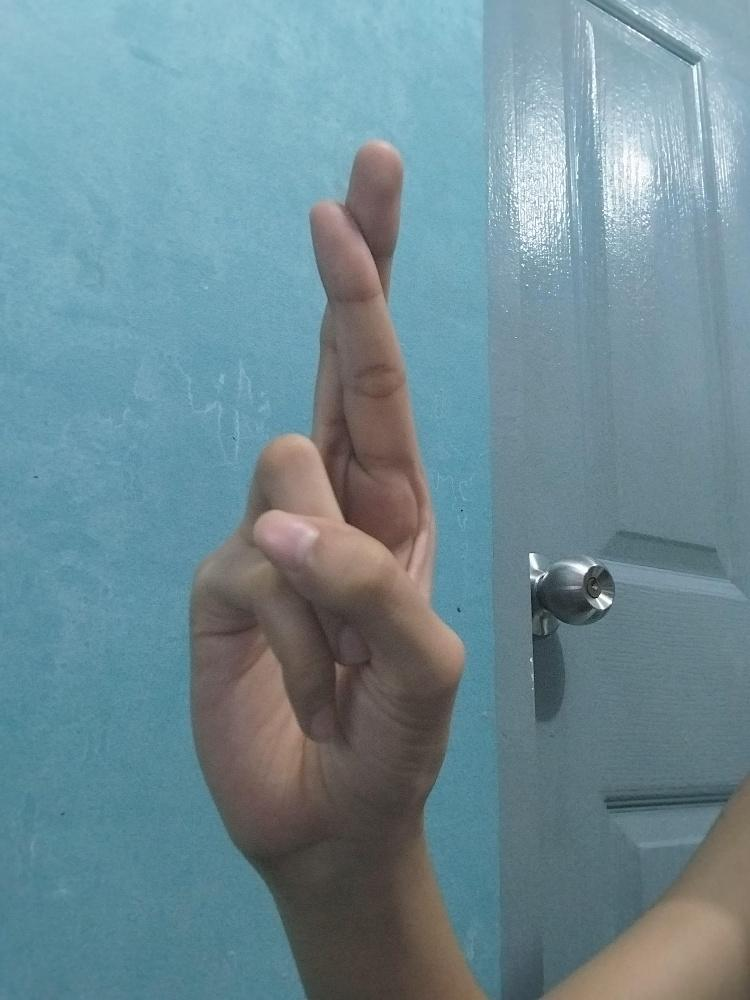r: (187, 140, 466, 869)
